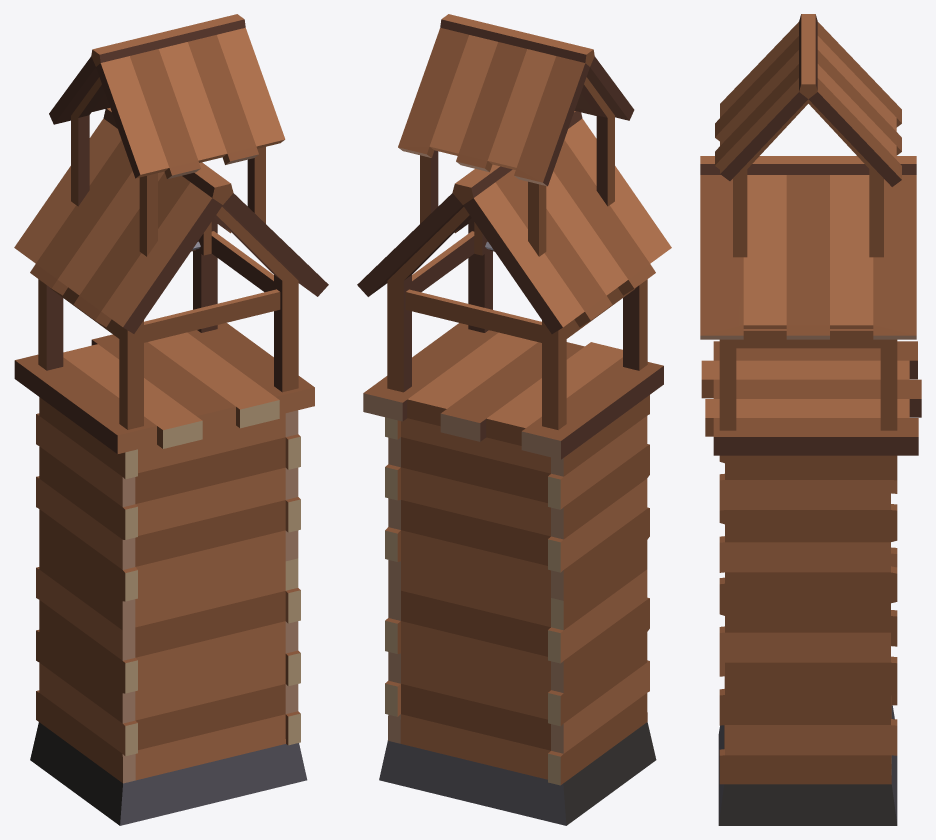
File: bell_tower.glb
The picture shows the model from 3 angles, left to right: view 1: azimuth 30°, elevation 25°; view 2: azimuth 150°, elevation 25°; view 3: azimuth 270°, elevation 25°; orthographic projection.
Visible parts, largest first — view 1: TB_Bd_BellTower; view 2: TB_Bd_BellTower; view 3: TB_Bd_BellTower.
Boxes of the visible parts, <box> form: TB_Bd_BellTower: <box>14,14,328,825</box>; TB_Bd_BellTower: <box>357,14,671,825</box>; TB_Bd_BellTower: <box>700,14,921,825</box>.
Bounding box in the file's own units: 2.59 × 8.6 × 2.36.
1 material, 1 textured.
